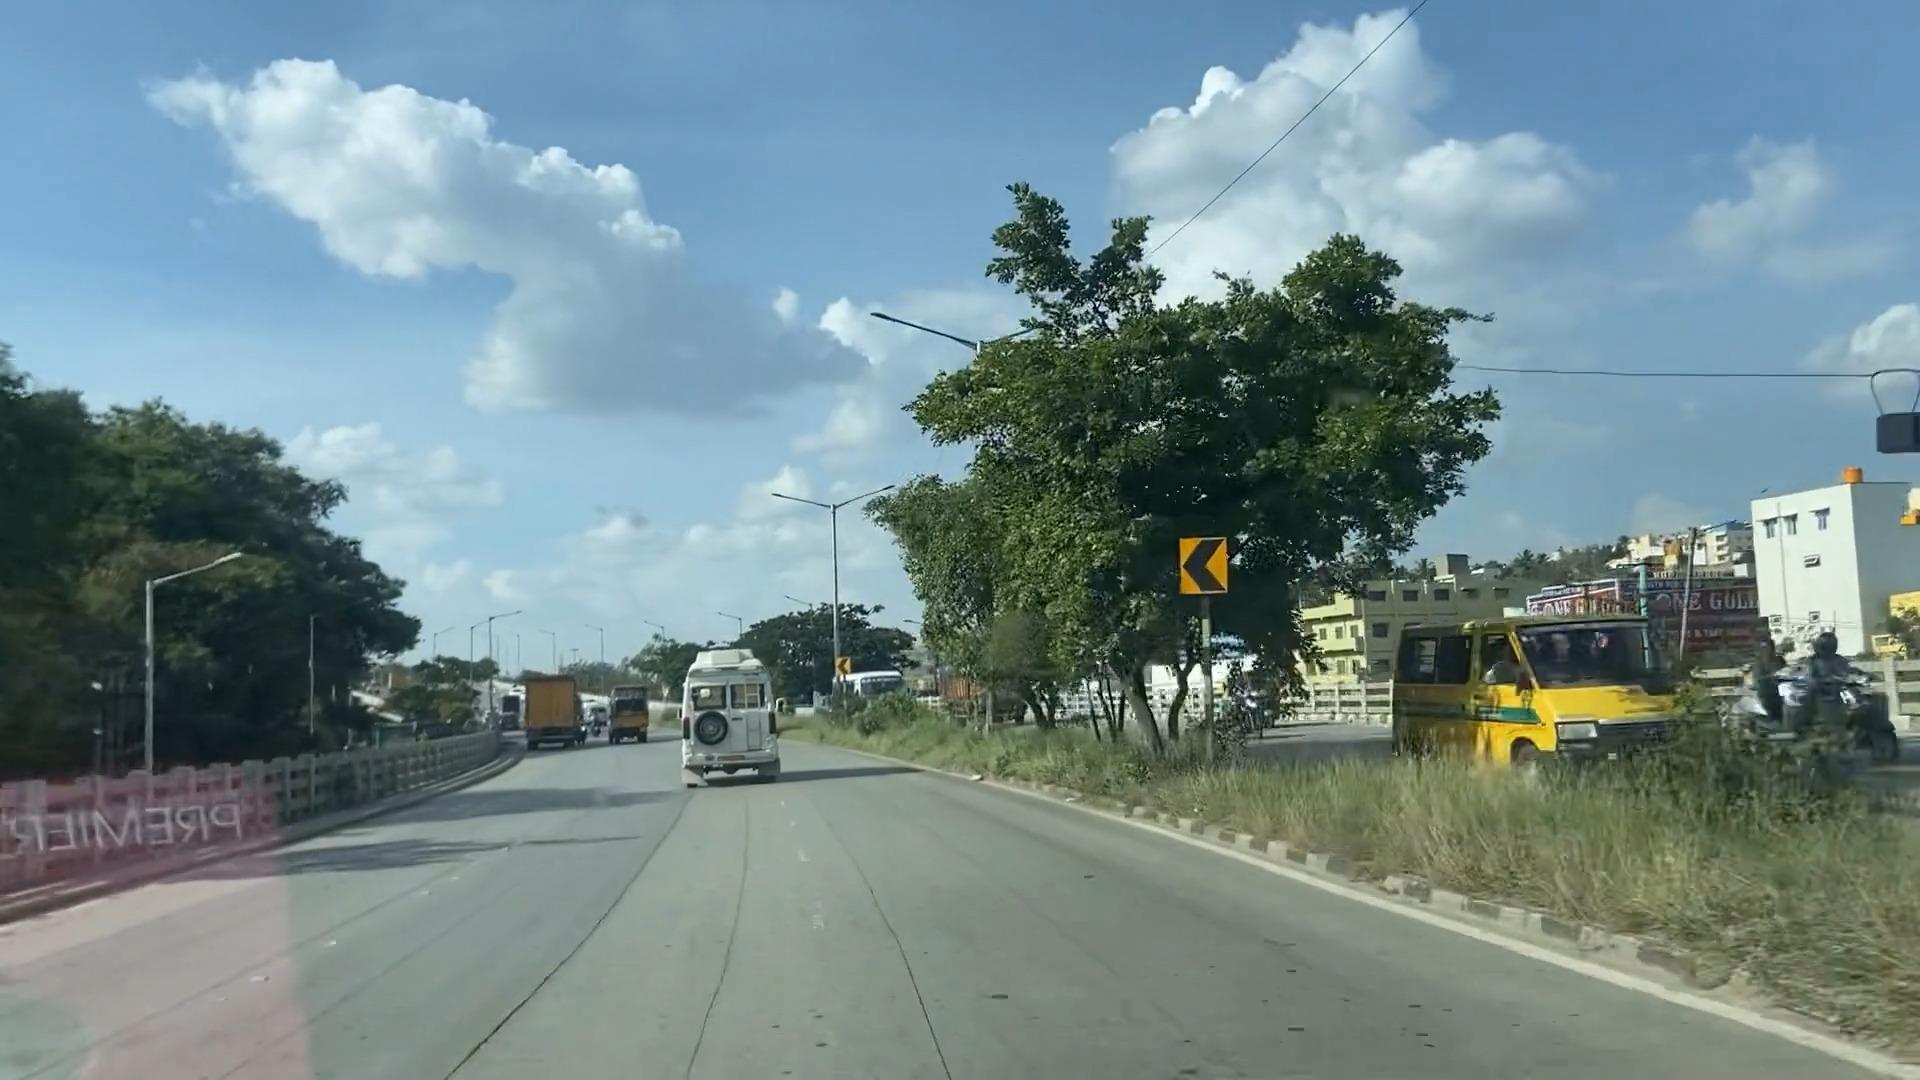HMV: (664, 654, 775, 775)
